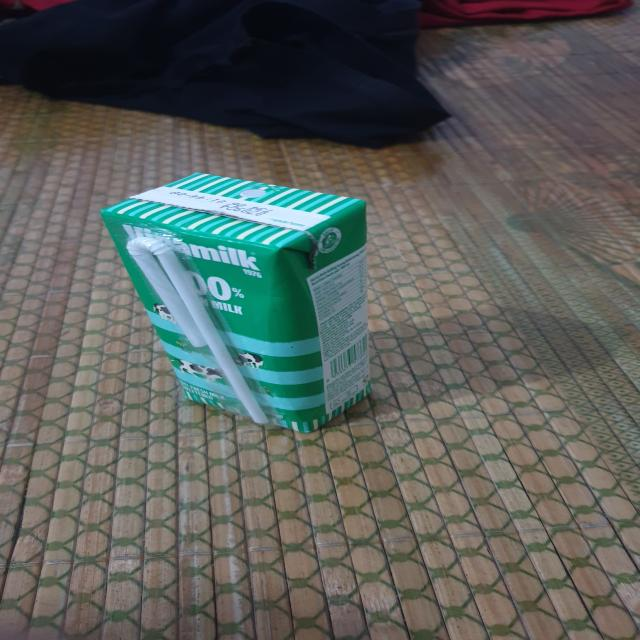Vina: (97, 169, 385, 437)
